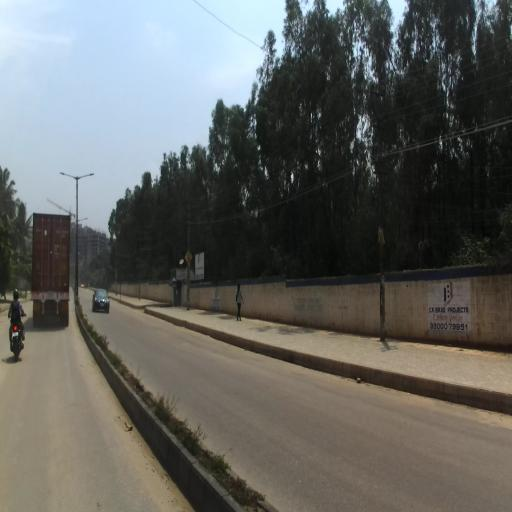street_light_0: (76, 172, 94, 182), (59, 172, 78, 180), (76, 217, 88, 225)
